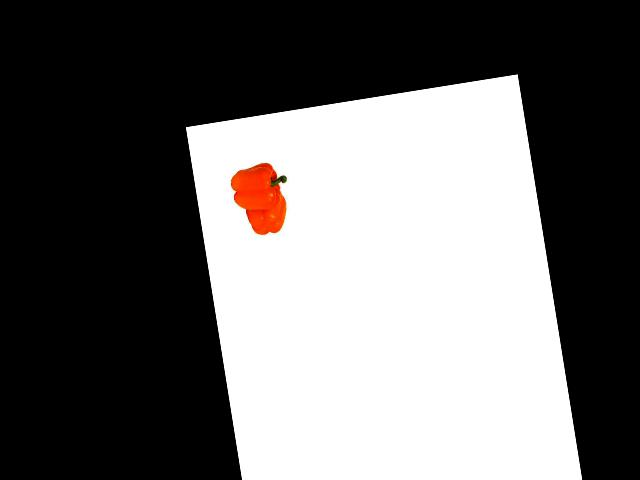bell_pepper: (238, 190, 292, 241)
